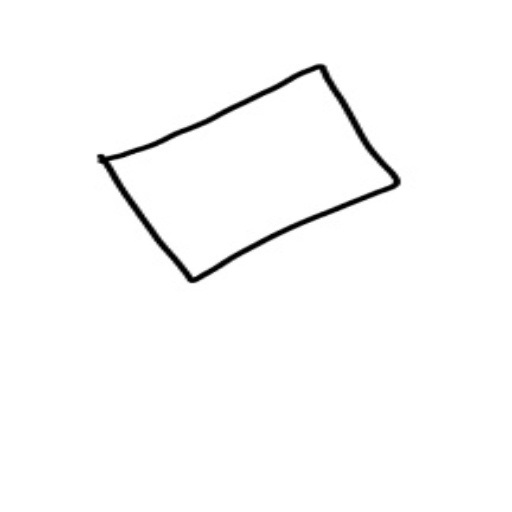rectangle: (86, 56, 409, 294)
